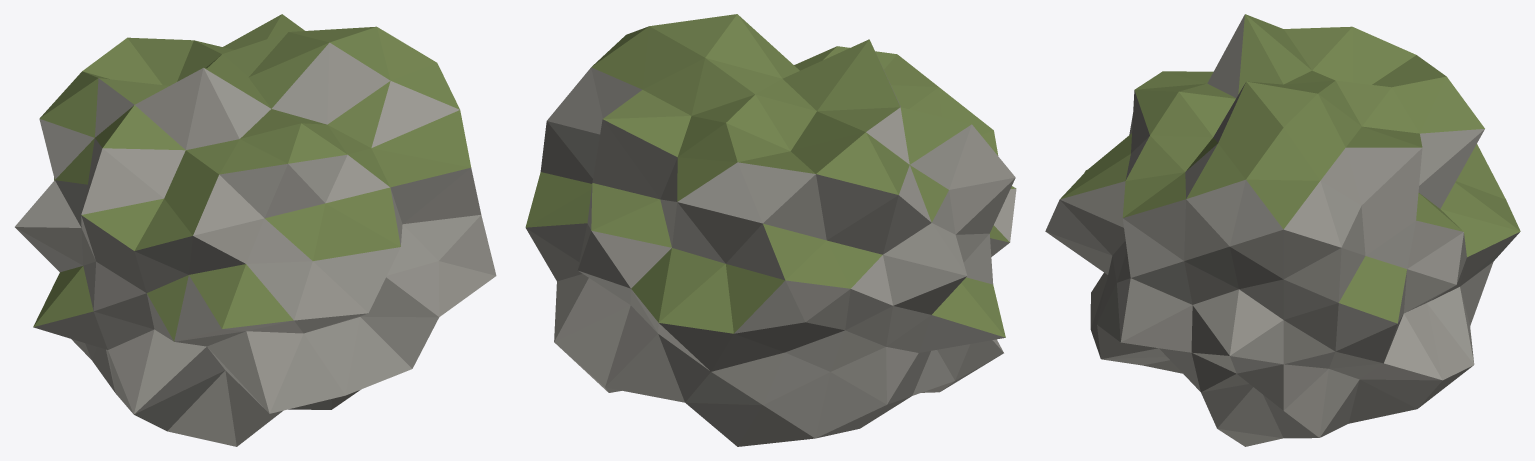
Rendered from iwa_l.glb.
The picture shows the model from 3 angles, left to right: view 1: azimuth 30°, elevation 25°; view 2: azimuth 150°, elevation 25°; view 3: azimuth 270°, elevation 25°; orthographic projection. The views are drawn at different scales.
Parts seen in each view (by area): view 1: iwa_l; view 2: iwa_l; view 3: iwa_l.
Boxes of the visible parts, bbox=[...] form: iwa_l: bbox=[15, 14, 496, 446]; iwa_l: bbox=[525, 14, 1016, 446]; iwa_l: bbox=[1045, 14, 1520, 446].
Size of the model in its own units: 2.67 by 2.26 by 2.63.
